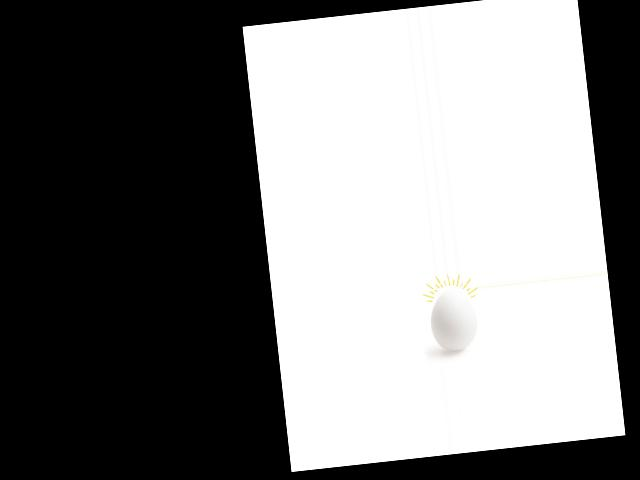egg: (428, 288, 480, 352)
